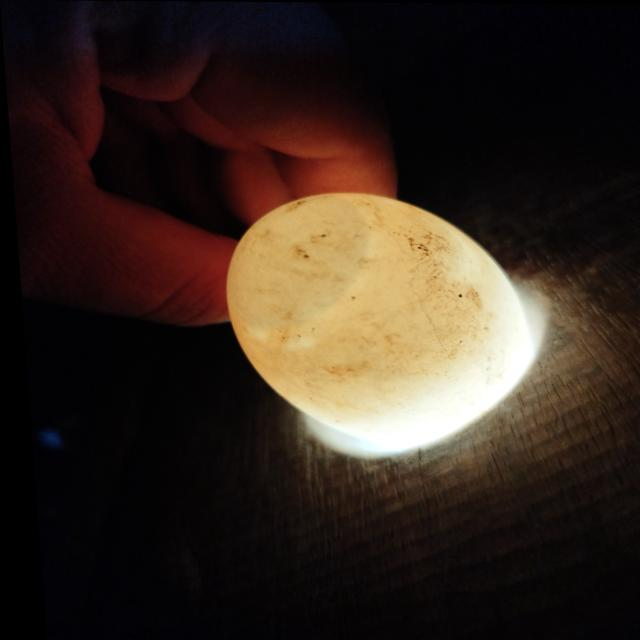Camara de Ar: (224, 200, 362, 337)
Rachadura: (362, 195, 443, 354)
